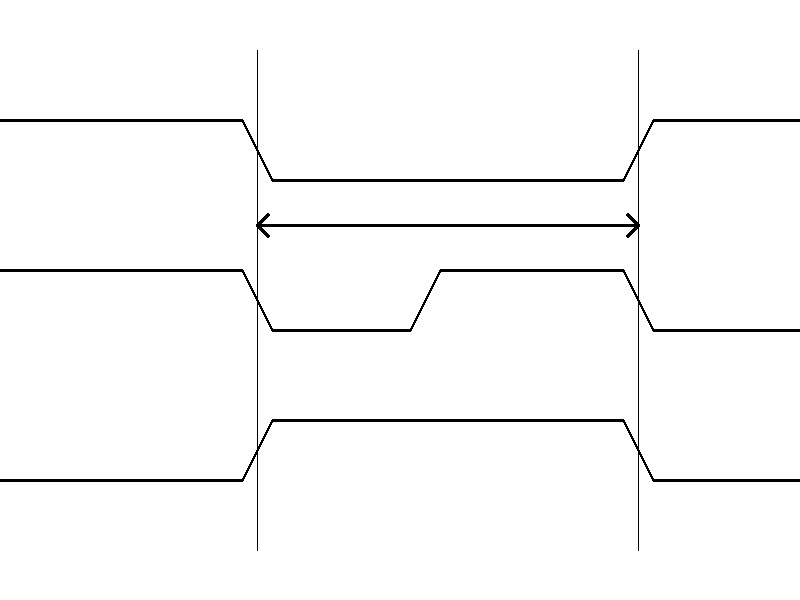double_arrow: (257, 210, 638, 240)
